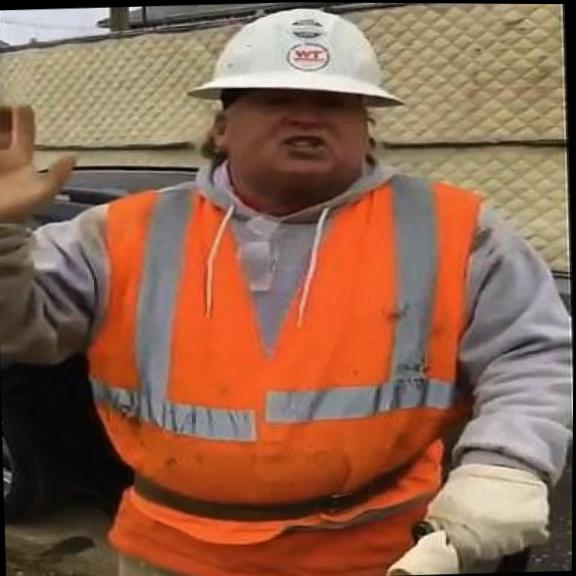safety_vest: (80, 170, 498, 494)
